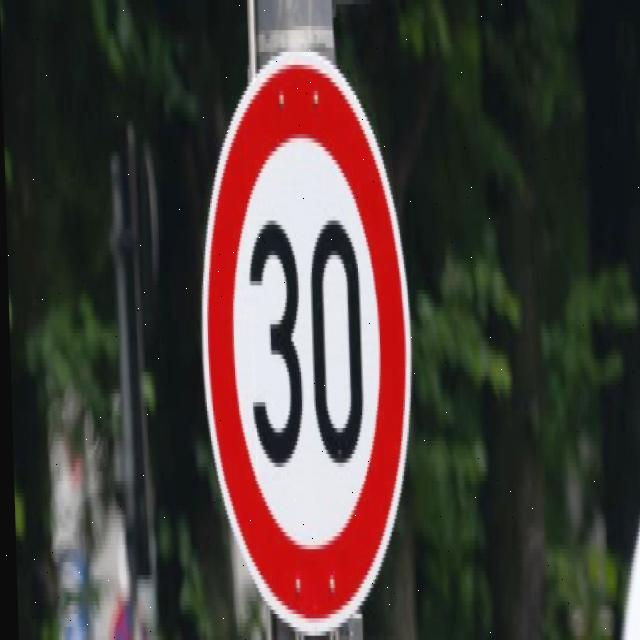Speed limit 30: (191, 45, 418, 633)
